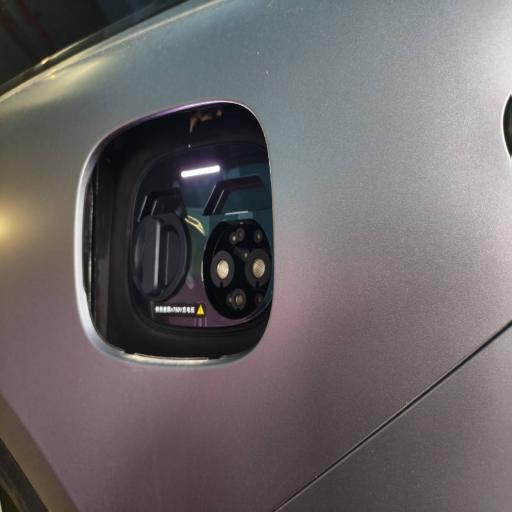DC_charging_port: (201, 217, 273, 323)
DC_hole: (244, 248, 272, 290), (210, 249, 235, 289)
PE: (230, 287, 247, 313)
